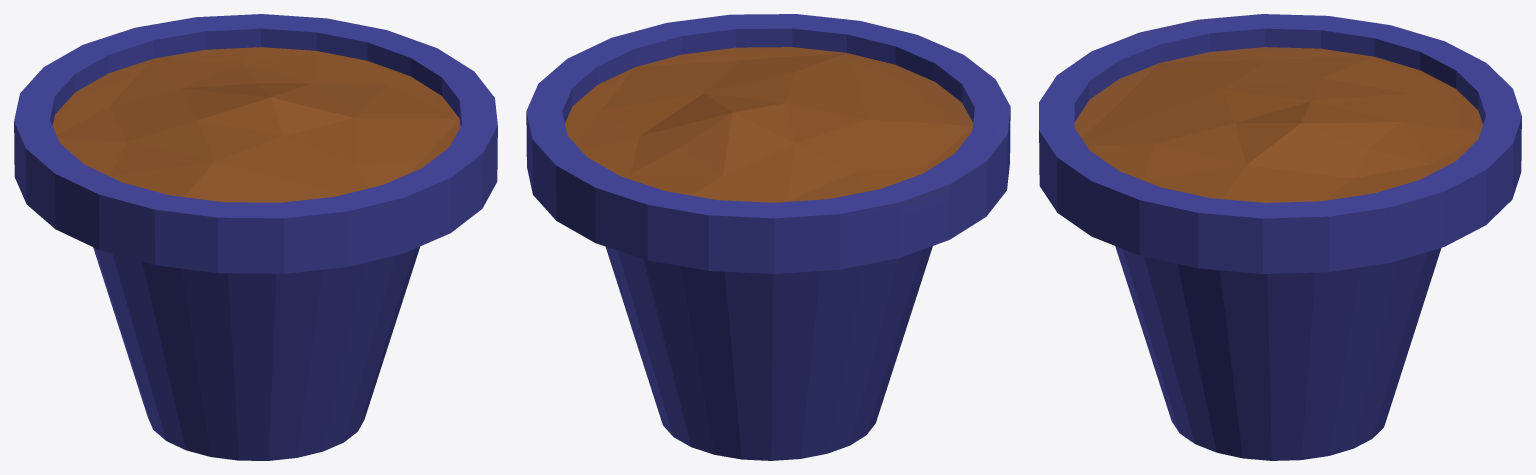
Rendered from MacetaAnd.fbx.
The picture shows the model from 3 angles, left to right: view 1: azimuth 30°, elevation 25°; view 2: azimuth 150°, elevation 25°; view 3: azimuth 270°, elevation 25°; orthographic projection.
Visible parts, largest first — view 1: Cylinder; view 2: Cylinder; view 3: Cylinder.
Part boxes in pixels (x1,y1,x2,y2): Cylinder: (14,14,497,460); Cylinder: (526,14,1010,460); Cylinder: (1039,14,1521,460).
Bounding box in the file's own units: 321 × 222 × 320.
1 material, 1 textured.
